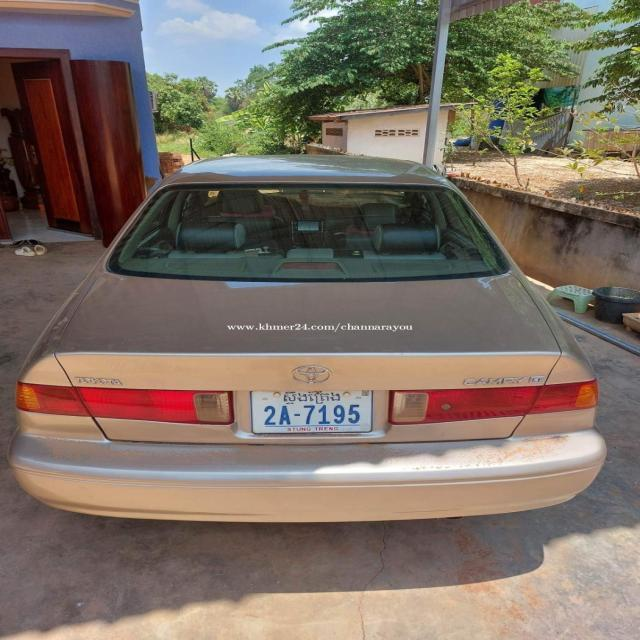Stung_Treng: (284, 391, 340, 406)
